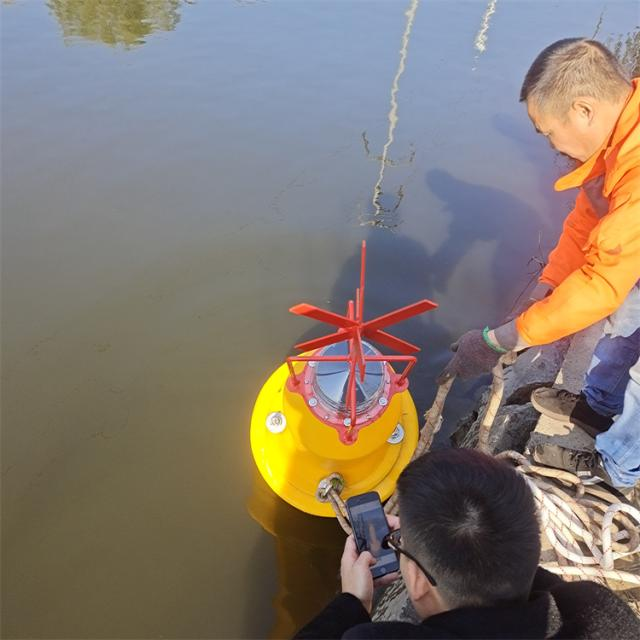buoy: (239, 232, 433, 518)
